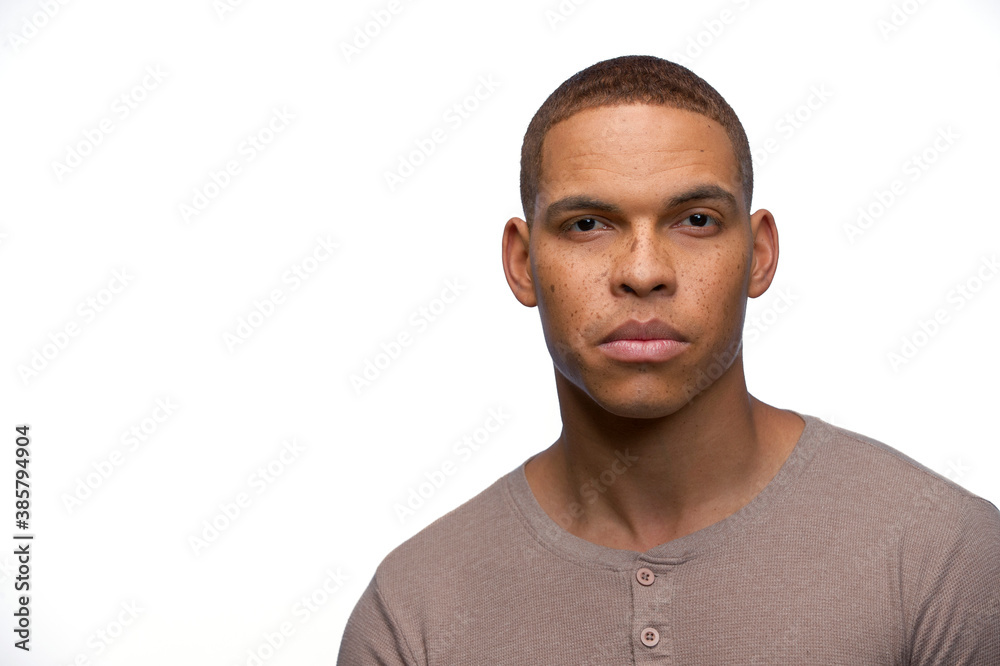face: (504, 53, 782, 424)
